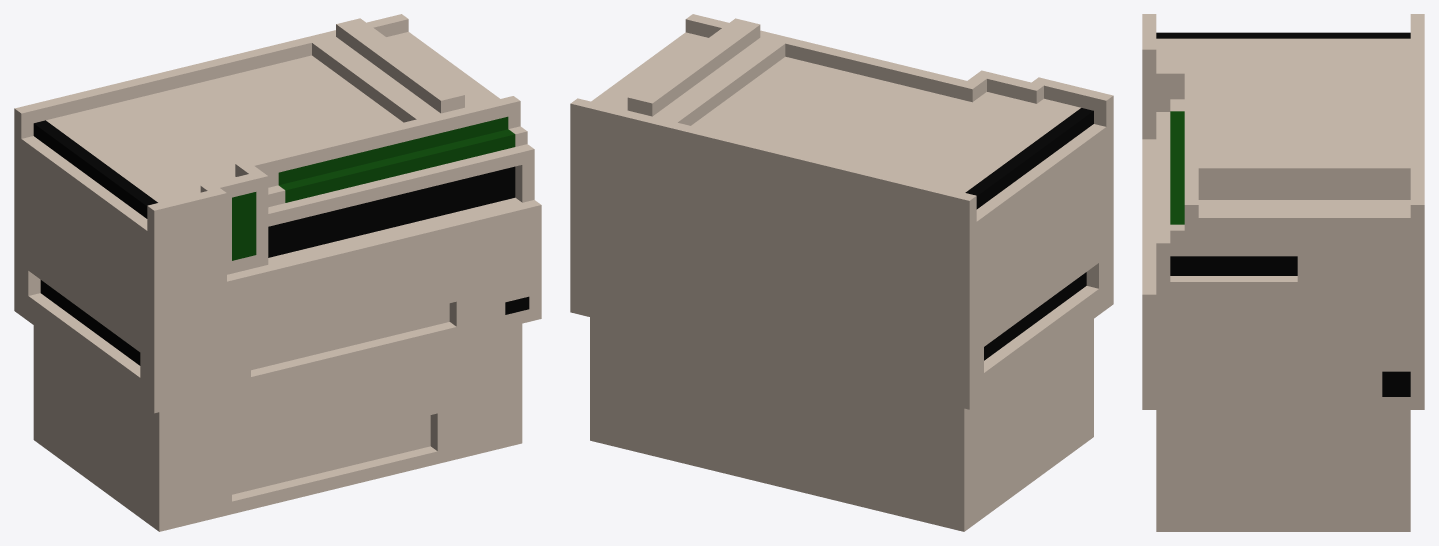
File: Printer.obj
3 views of the same model, side by side, from view 1: azimuth 30°, elevation 25°; view 2: azimuth 150°, elevation 25°; view 3: azimuth 270°, elevation 25° (orthographic). The views are drawn at different scales.
Size of the model in its own units: 3.2 by 2.7 by 2.
1 material, 1 textured.
